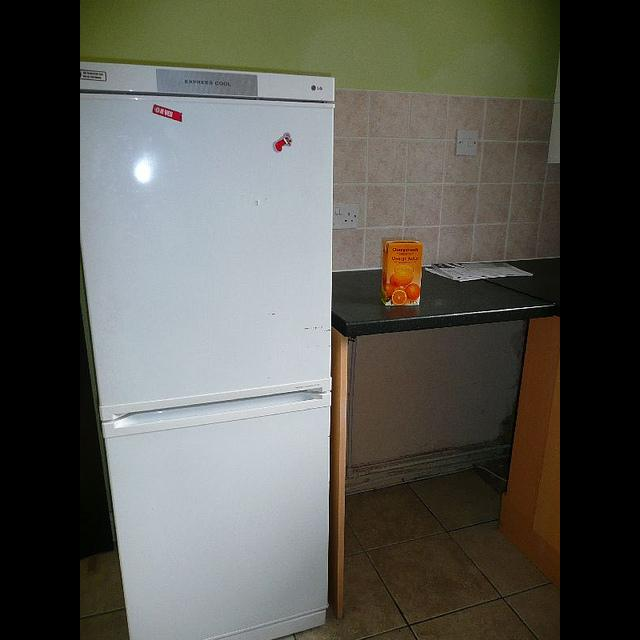Refrigerator: (81, 59, 336, 633)
